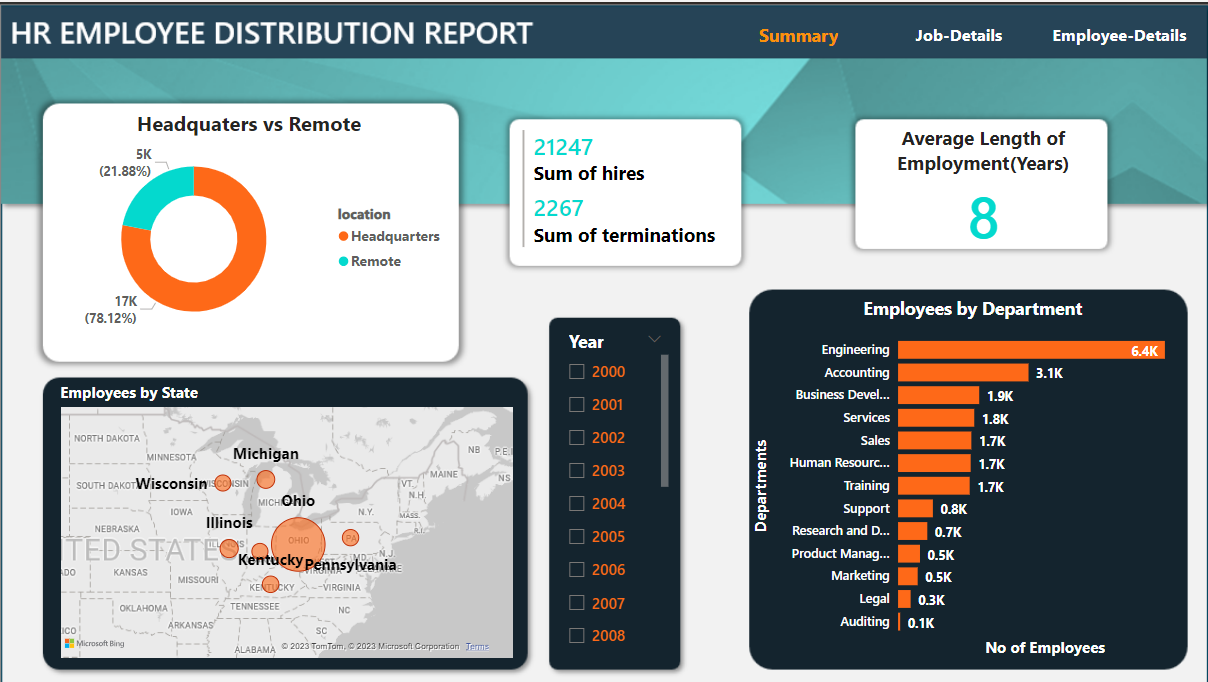

Layout of this report page (visuals, bound fields, positions):
{"tool":"powerbi","page":{"name":"Summary","canvas":[1280,720],"ordinal":0},"visuals":[{"type":"slicer","fields":{"Values":["department_sub.year"]},"box":[589.7,341.7,124,357.6],"z":0},{"type":"barChart","title":"Employees by Department","fields":{"Category":["department_sub.department"],"Y":["Sum(department_sub.employee_count)"]},"box":[793.1,311.5,475.2,387.8],"z":1000},{"type":"multiRowCard","fields":{"Values":["Sum(department_sub.hires)","Sum(department_sub.terminations)"]},"box":[548.3,130.3,244.8,158.9],"z":2000},{"type":"map","title":"Employees by State","fields":{"Category":["department_sub.location_state"],"Size":["Sum(department_sub.employee_count)"]},"box":[58.8,402.1,489.5,297.2],"z":3000},{"type":"donutChart","title":"Headquaters vs Remote","fields":{"Category":["department_sub.location"],"Y":["Sum(department_sub.employee_count)"]},"box":[47.7,112.8,432.3,247.9],"z":4000},{"type":"card","title":"Average Length of Employment(Years)","fields":{"Values":["Sum(avg_length_employment.avg_length_employment)"]},"box":[906,130.3,271.8,133.5],"z":5000},{"type":"pageNavigator","box":[766.1,11.1,502.3,47.7],"z":5001}]}

Visuals, with their boxes in screenshot pixels (x1, y1, x2, y2), scaled from the page's 1280x720 canvas onto the 1208x682 screenshot:
slicer - department_sub.year: detection(557, 324, 674, 662)
"Employees by Department" barChart: detection(748, 295, 1197, 662)
multiRowCard - Sum(department_sub.hires) x Sum(department_sub.terminations): detection(517, 123, 748, 274)
"Employees by State" map: detection(55, 381, 517, 662)
"Headquaters vs Remote" donutChart: detection(45, 107, 453, 342)
"Average Length of Employment(Years)" card: detection(855, 123, 1112, 250)
pageNavigator: detection(723, 11, 1197, 56)
